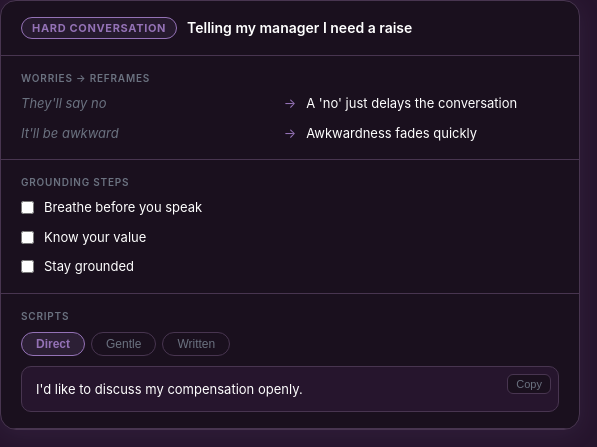
Test: PrepWidget — scripts section for hard_conversation › Copy button changes to 'Copied!' after click
Click the button "Copy": [529, 384] box x1=507 y1=374 x2=551 y2=394
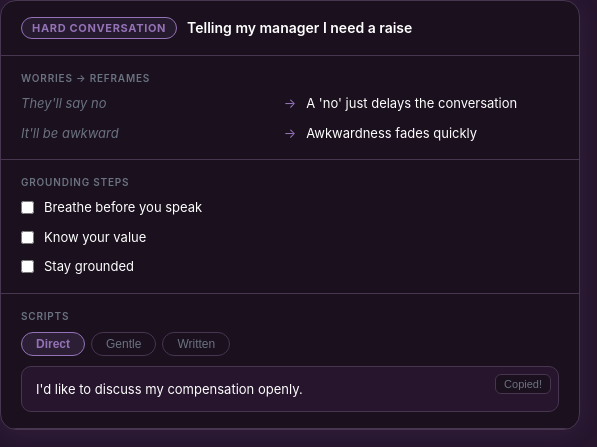
Expected: the button "Copied!" is shown, x1=495 y1=374 x2=551 y2=394
